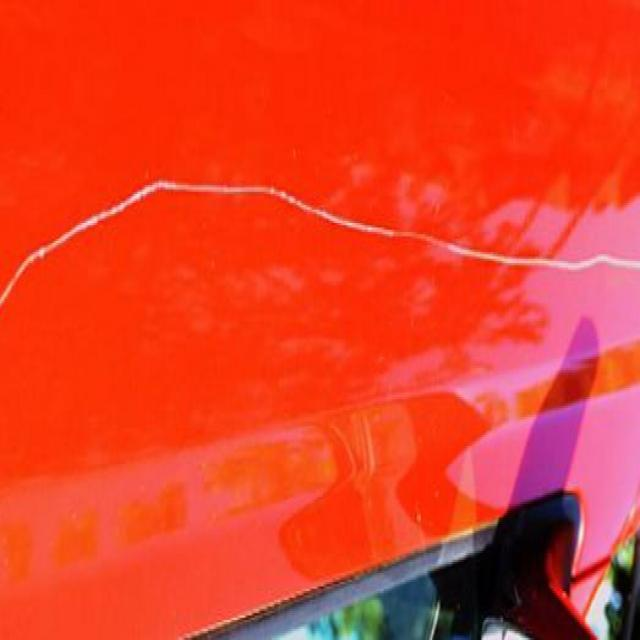scratch: (1, 177, 634, 316)
